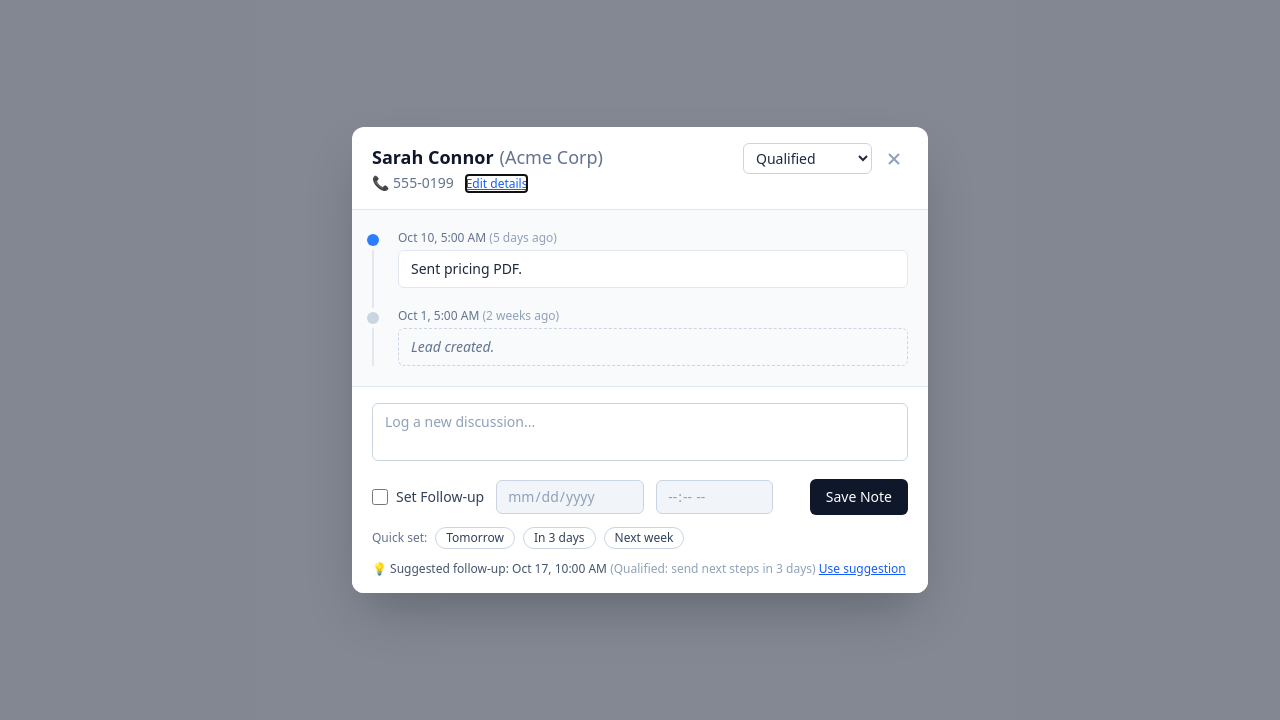
Test: editing lead details › asks before closing the dialog with unsaved edits
Expected: the text "Lead created." is shown, [411,337,494,356]
Click the button "Edit details".
click(497, 184)  # box [466,176,528,192]
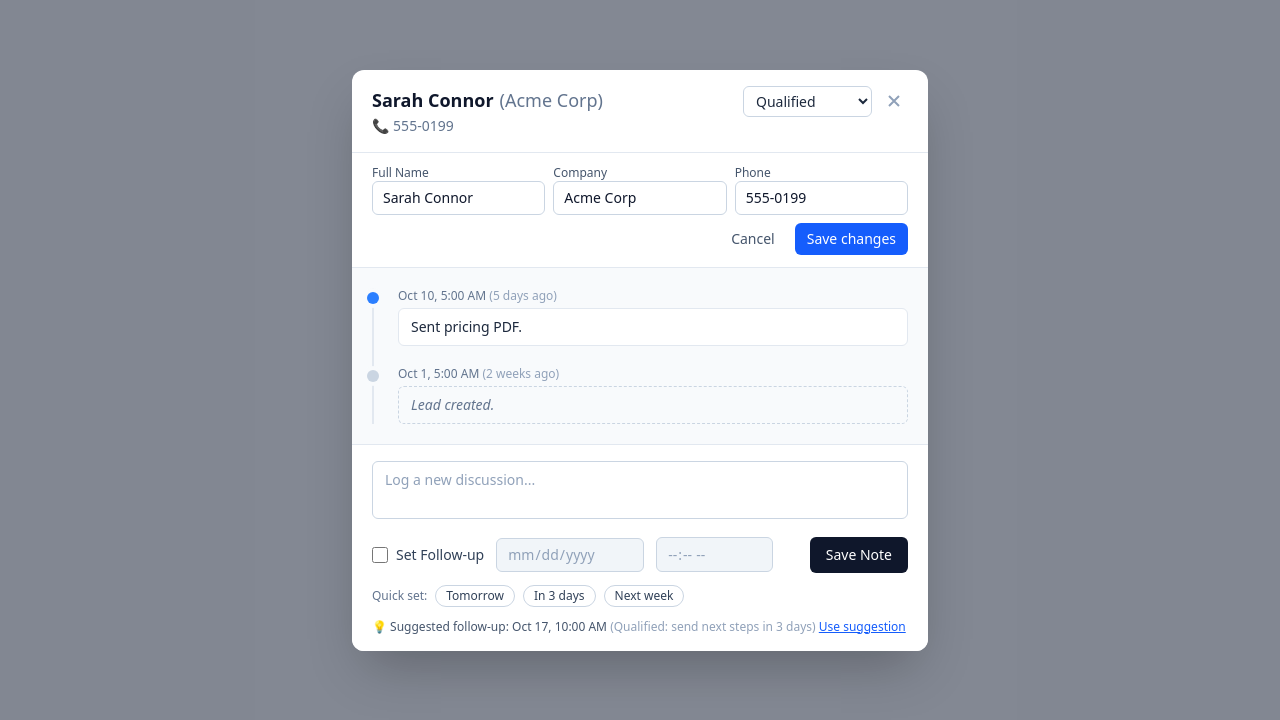
Type " Ltd" into the field labelled "Company".
click(640, 198); type(" Ltd")  # box [553,180,727,214]
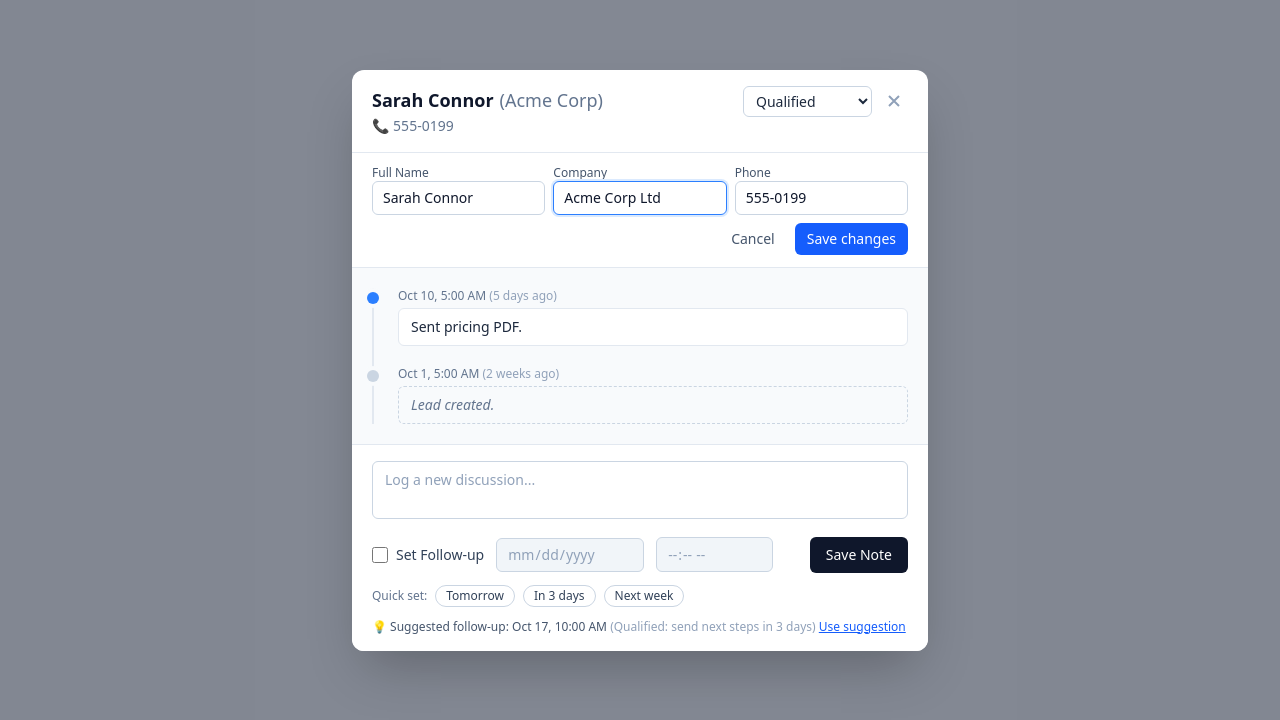
Click the button named "Close".
click(894, 101)  # box [880,87,908,115]
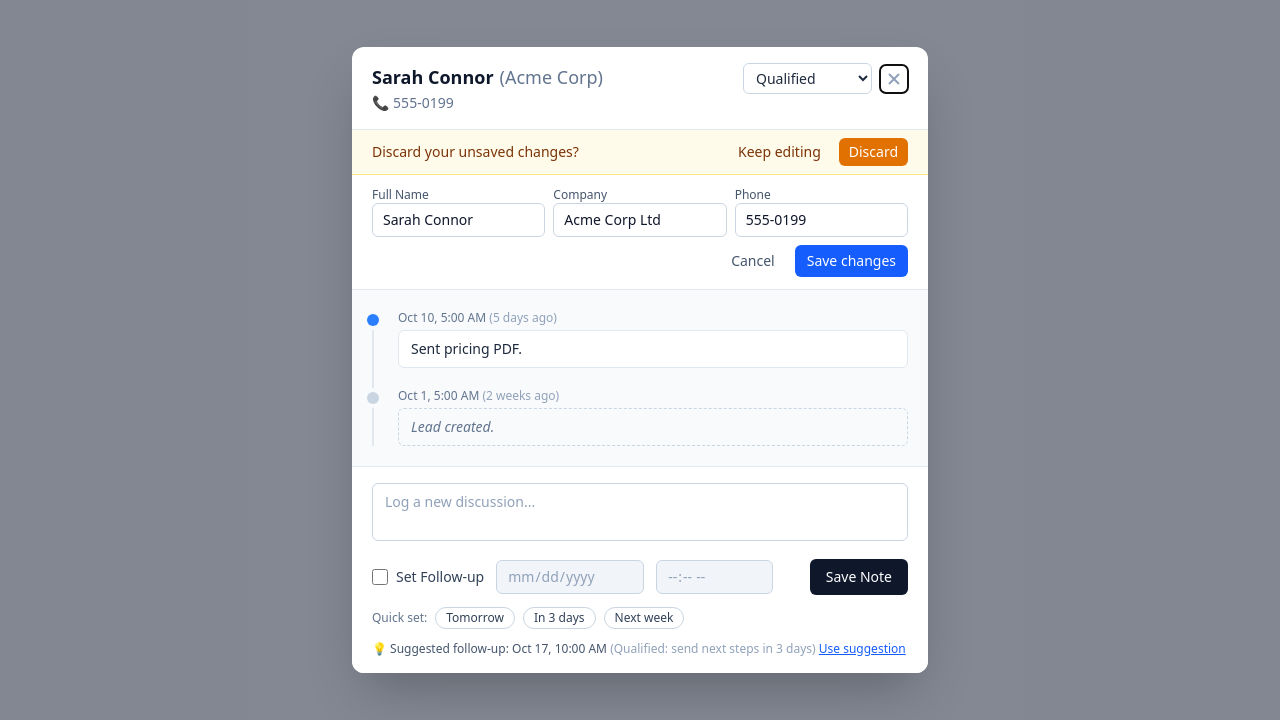
Expected: the text "Discard your unsaved changes?" is shown, [372,142,579,162]
